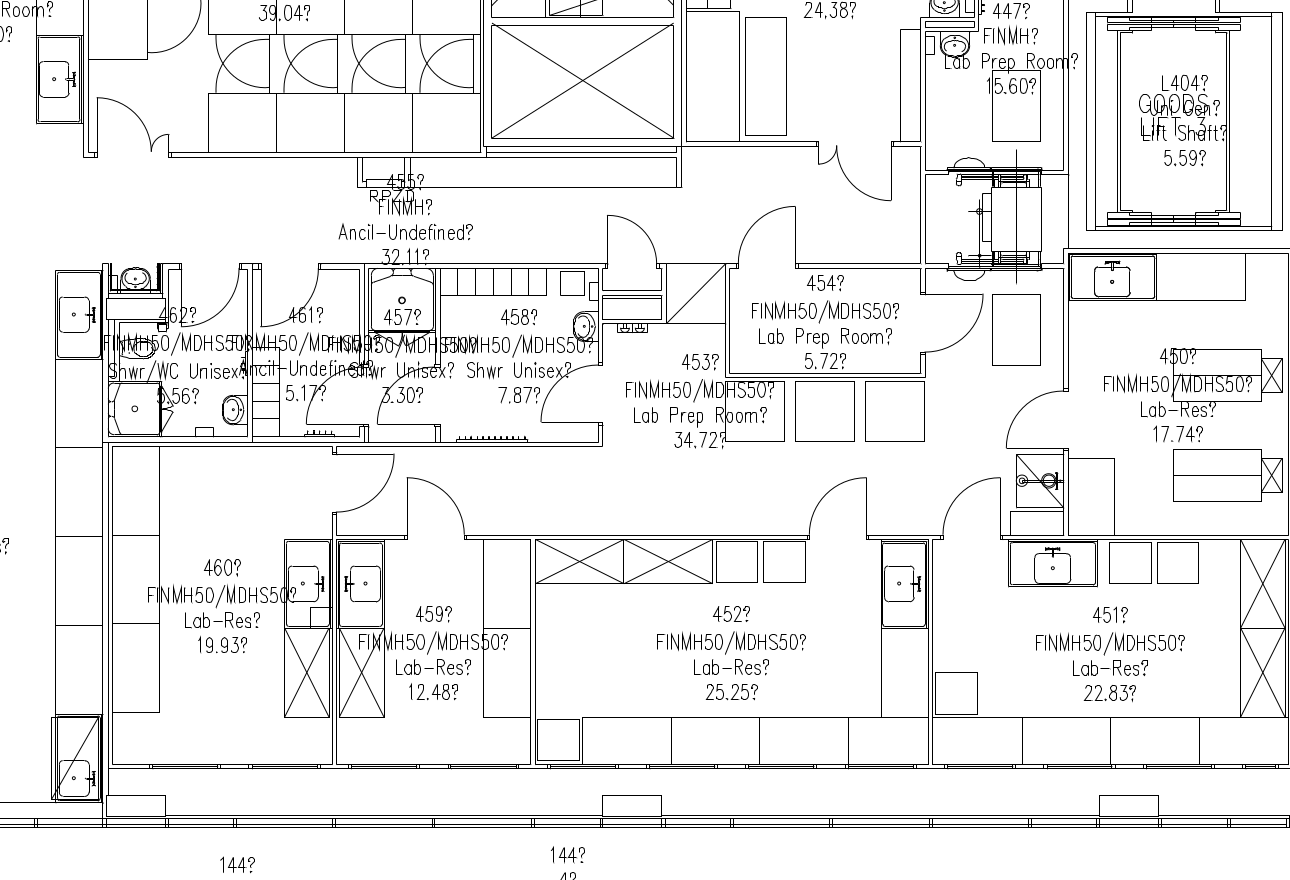door: (917, 285, 984, 358), (735, 200, 800, 267), (598, 199, 663, 266), (405, 471, 468, 536), (806, 470, 869, 535), (941, 473, 1004, 538), (1001, 386, 1064, 451), (532, 363, 595, 428), (333, 449, 396, 514), (256, 268, 319, 333), (175, 266, 238, 331), (834, 142, 893, 211), (91, 93, 151, 160), (150, 123, 171, 162)
